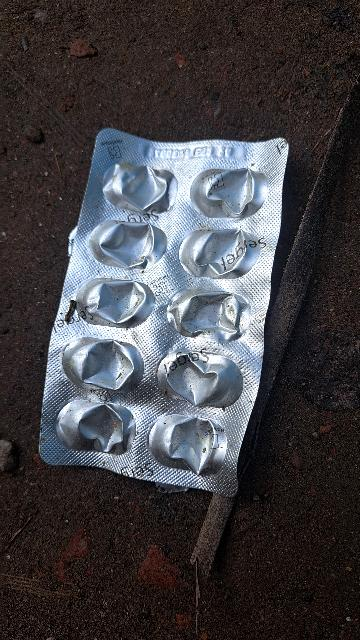medicine: (31, 105, 299, 513)
